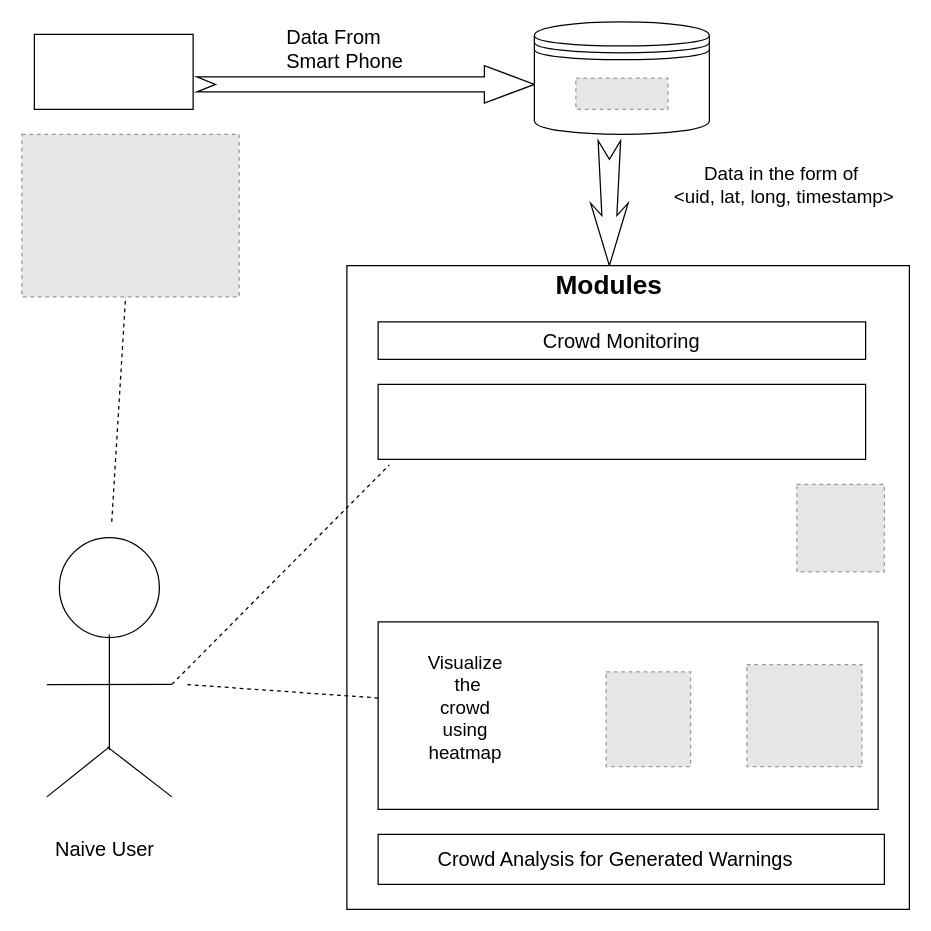
Some shapes in this 931 by 931 pixel diagram are drawn without their labels. Grey dashed boxes stand in for pictures. The shapes that lost their labels are listed below. From the top down, each one's centre as x and y in pixels, then its label:
the point at 113,71: Smart Phone
the point at 621,421: Crowd Prediction
